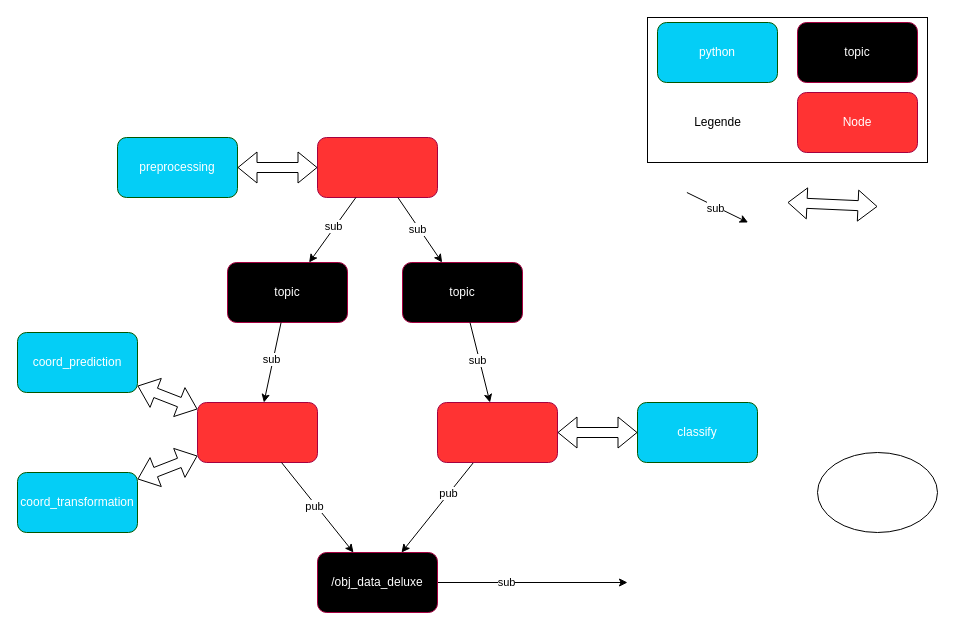
This 955x630 diagram has some shape labels left out. The centre of each missing label's shape, as x and y in pixels:
"coord prediction" goes at pixel 257 432.
"Kamera Node" goes at pixel 377 167.
"machine learning Node" goes at pixel 497 432.
"Test" goes at pixel 877 492.
